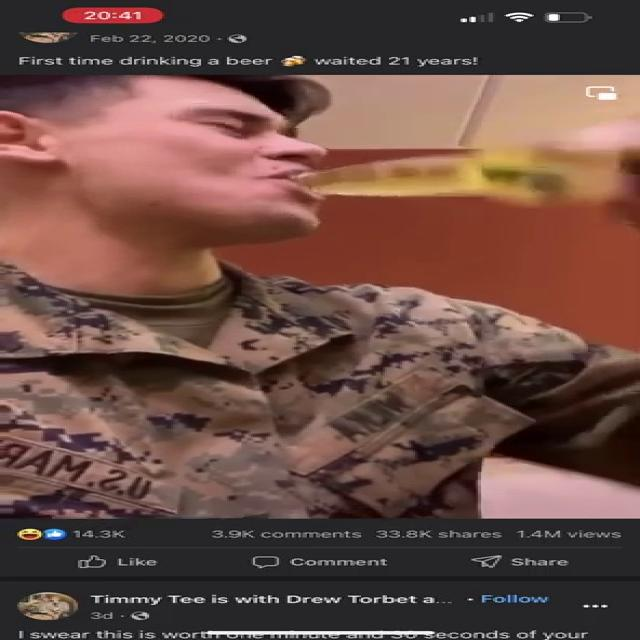Bottle: (288, 140, 620, 206)
Hand: (511, 113, 640, 219)
Mouth: (247, 159, 333, 208)
